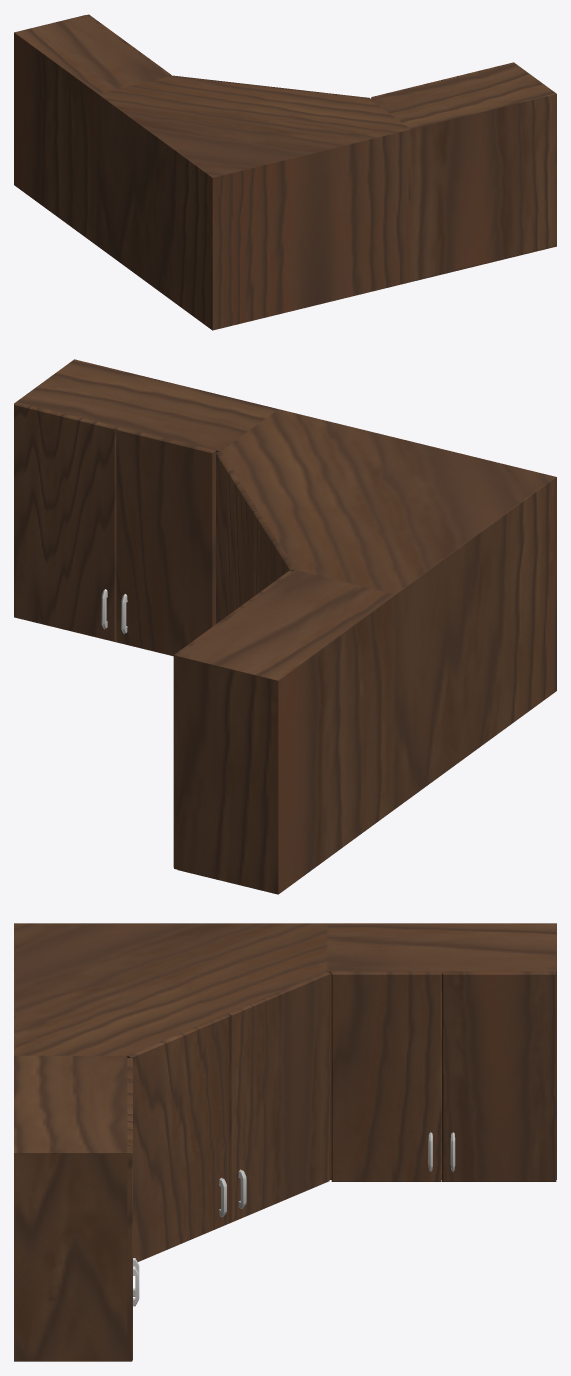
File: CupboardRounded.glb
The picture shows the model from 3 angles, top to bottom: view 1: azimuth 30°, elevation 25°; view 2: azimuth 150°, elevation 25°; view 3: azimuth 270°, elevation 25°; orthographic projection. The views are drawn at different scales.
Parts seen in each view (by area): view 1: KitchenCupboardRounded; view 2: KitchenCupboardRounded; view 3: KitchenCupboardRounded.
Boxes of the visible parts, x1,y1,x2,y2 form: KitchenCupboardRounded: (14, 14, 556, 330); KitchenCupboardRounded: (14, 359, 556, 894); KitchenCupboardRounded: (14, 923, 556, 1361).
Bounding box in the file's own units: 1.89 × 0.8 × 1.89.
1 material, 1 textured.
